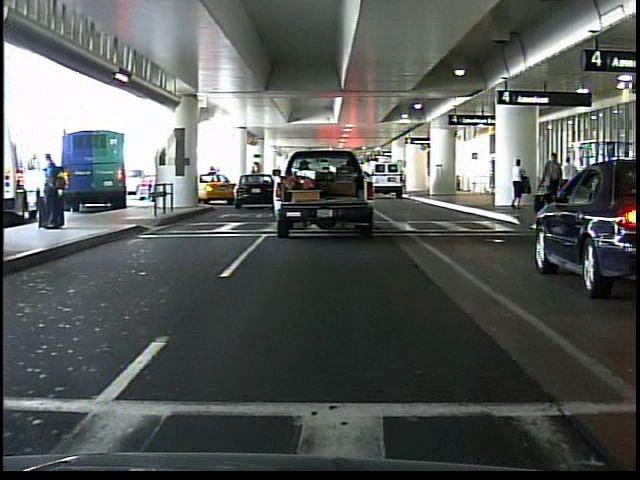person: (36, 144, 71, 237), (540, 148, 567, 217), (507, 155, 530, 211), (560, 154, 581, 214)
